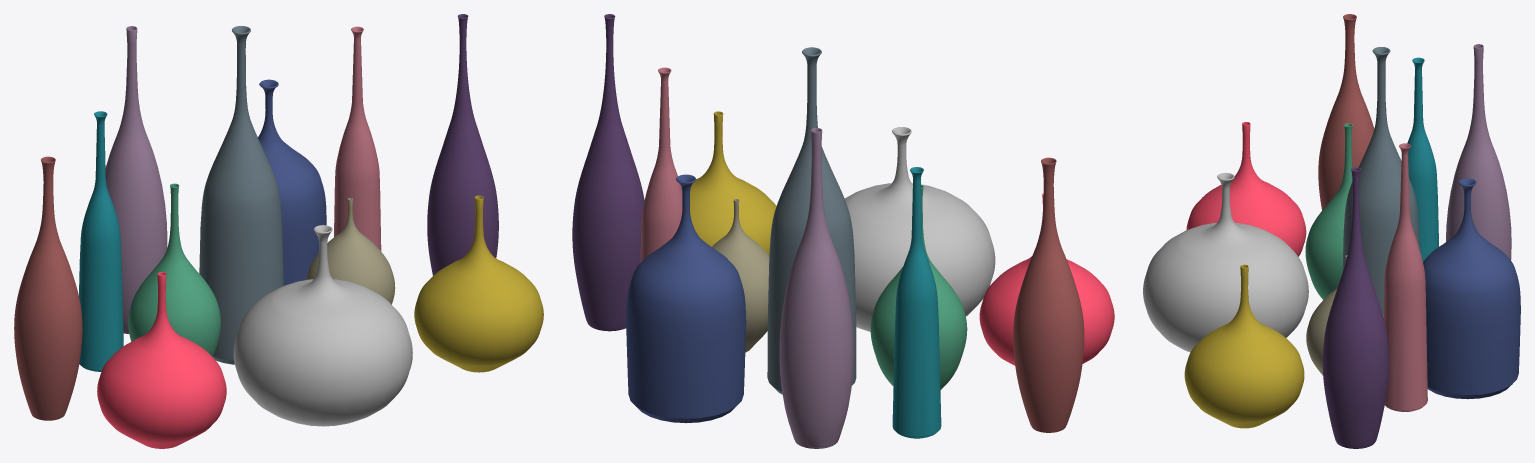
The model's file is porcelain.glb.
3 views of the same model, side by side, from view 1: azimuth 30°, elevation 25°; view 2: azimuth 150°, elevation 25°; view 3: azimuth 270°, elevation 25° (orthographic). The views are drawn at different scales.
Parts seen in each view (by area): view 1: Pot1, Pot2, Pot7, Pot12, Pot10, Pot9, Pot5, Pot6, Pot11, Pot4, Pot8, Pot3; view 2: Pot4, Pot5, Pot1, Pot9, Pot10, Pot2, Pot6, Pot12, Pot7, Pot11, Pot8, Pot3; view 3: Pot1, Pot4, Pot9, Pot7, Pot8, Pot2, Pot5, Pot12, Pot10, Pot11, Pot6, Pot3.
Part boxes in pixels (<box>): Pot1: <box>233,225,412,426</box>; Pot2: <box>199,26,283,364</box>; Pot7: <box>414,195,543,372</box>; Pot12: <box>97,272,226,448</box>; Pot10: <box>14,156,82,420</box>; Pot9: <box>427,14,498,275</box>; Pot5: <box>105,26,167,333</box>; Pot6: <box>79,111,123,371</box>; Pot11: <box>128,183,220,356</box>; Pot4: <box>258,79,326,285</box>; Pot8: <box>334,26,381,251</box>; Pot3: <box>306,198,395,304</box>; Pot4: <box>626,174,746,423</box>; Pot5: <box>779,128,853,448</box>; Pot1: <box>844,127,995,331</box>; Pot9: <box>572,14,644,331</box>; Pot10: <box>1013,157,1084,432</box>; Pot2: <box>767,47,856,394</box>; Pot6: <box>892,167,941,438</box>; Pot12: <box>979,193,1114,365</box>; Pot7: <box>690,111,776,255</box>; Pot11: <box>870,185,967,389</box>; Pot8: <box>640,67,682,262</box>; Pot3: <box>712,199,769,352</box>; Pot1: <box>1143,172,1308,352</box>; Pot4: <box>1423,178,1520,399</box>; Pot9: <box>1322,167,1388,448</box>; Pot7: <box>1184,264,1304,428</box>; Pot8: <box>1383,143,1427,411</box>; Pot2: <box>1342,47,1419,314</box>; Pot5: <box>1446,44,1511,259</box>; Pot12: <box>1186,122,1306,256</box>; Pot10: <box>1318,14,1374,210</box>; Pot11: <box>1305,123,1352,299</box>; Pot6: <box>1407,57,1438,261</box>; Pot3: <box>1306,255,1383,375</box>.
Bounding box in the file's own units: 0.6651 × 0.4255 × 0.4915.
1 material, 1 textured.
